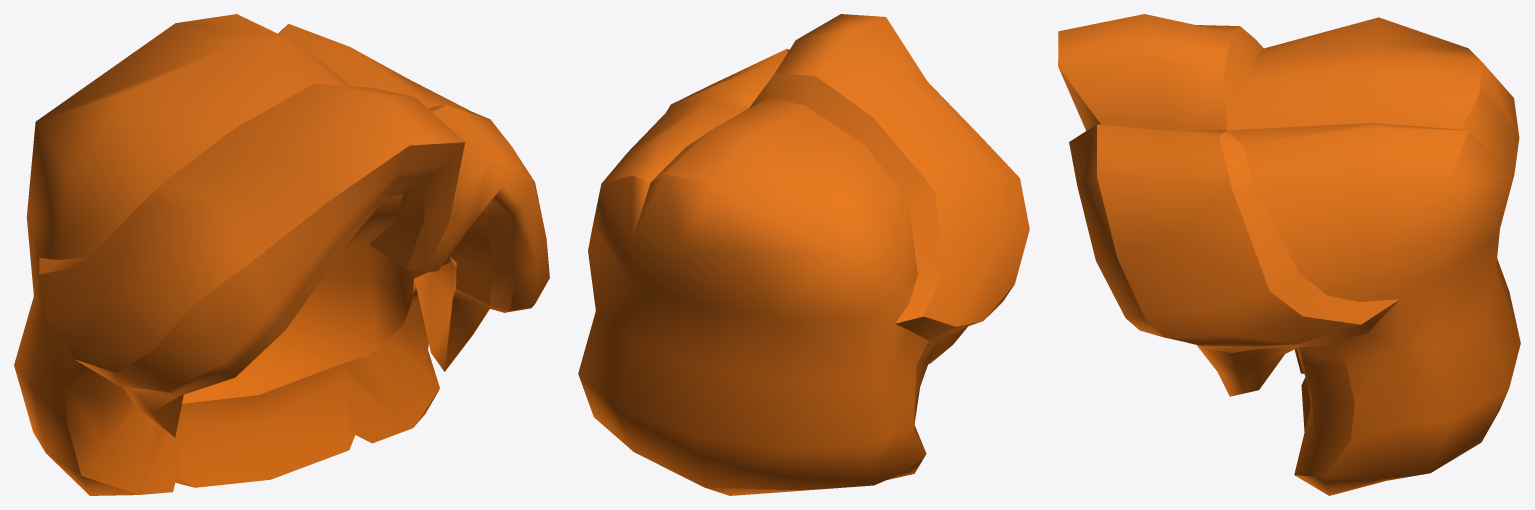
The model's file is Hair_Orange_5.fbx.
The picture shows the model from 3 angles, left to right: view 1: azimuth 30°, elevation 25°; view 2: azimuth 150°, elevation 25°; view 3: azimuth 270°, elevation 25°; orthographic projection. The views are drawn at different scales.
Visible parts, largest first — view 1: Hair_Orange_5; view 2: Hair_Orange_5; view 3: Hair_Orange_5.
Boxes of the visible parts, x1=… form: Hair_Orange_5: x1=14, y1=14, x2=549, y2=495; Hair_Orange_5: x1=578, y1=14, x2=1029, y2=495; Hair_Orange_5: x1=1058, y1=14, x2=1520, y2=495.
Size of the model in its own units: 67.62 by 68.28 by 65.32.
